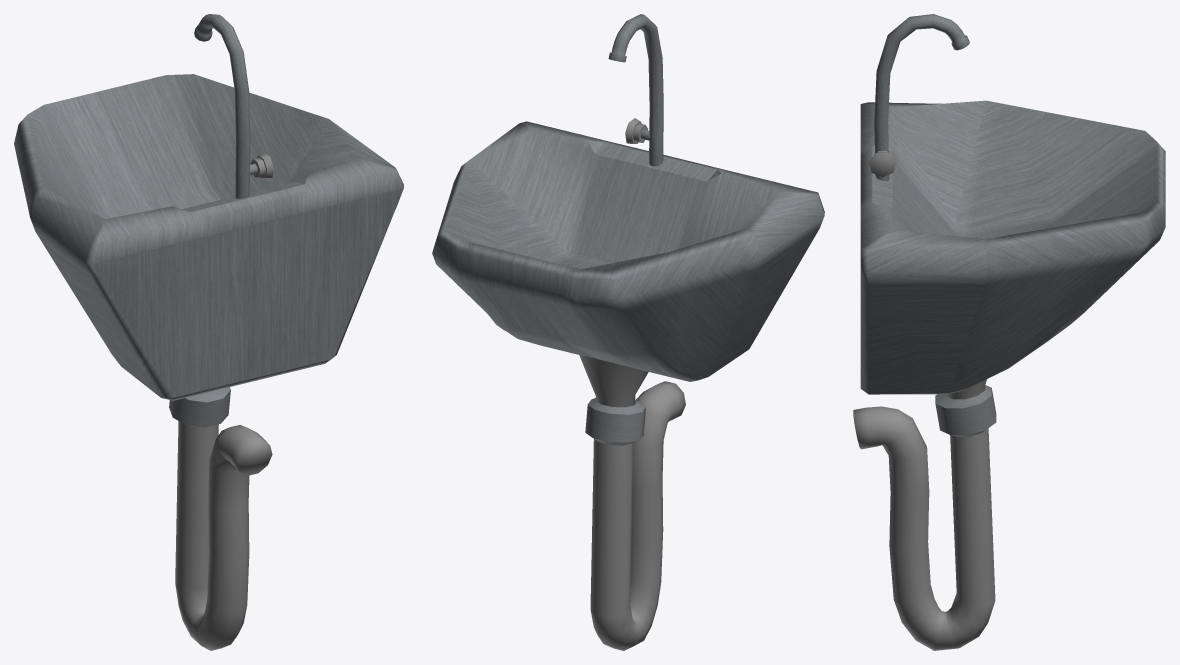
The model's file is sinkFinished.fbx.
The picture shows the model from 3 angles, left to right: view 1: azimuth 30°, elevation 25°; view 2: azimuth 150°, elevation 25°; view 3: azimuth 270°, elevation 25°; orthographic projection.
Parts seen in each view (by area): view 1: polySurface1; view 2: polySurface1; view 3: polySurface1.
Boxes of the visible parts, <box> form: polySurface1: <box>14,14,403,650</box>; polySurface1: <box>432,14,824,650</box>; polySurface1: <box>853,14,1165,650</box>.
Bounding box in the file's own units: 2.1 × 3.99 × 1.78.
3 materials, 1 textured.
